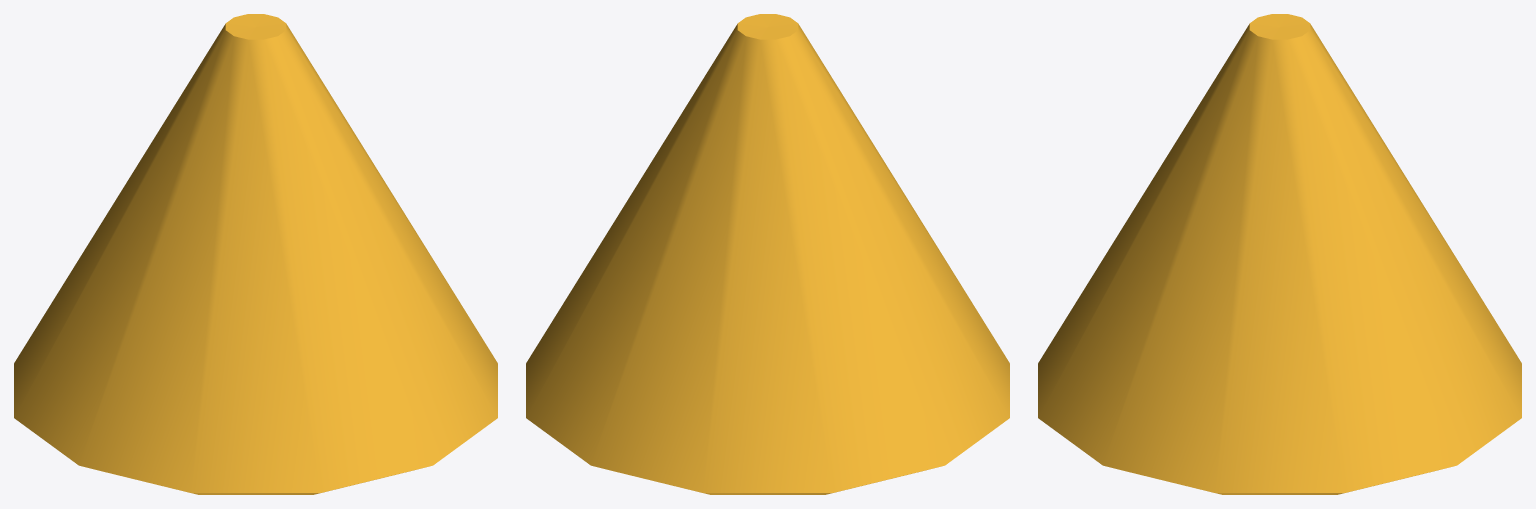
Rendered from juguangdeng.FBX.
3 views of the same model, side by side, from view 1: azimuth 30°, elevation 25°; view 2: azimuth 150°, elevation 25°; view 3: azimuth 270°, elevation 25° (orthographic).
Parts seen in each view (by area): view 1: body; view 2: body; view 3: body.
Part boxes in pixels (x1,y1,x2,y2): body: (14,14,497,494); body: (526,14,1009,494); body: (1038,14,1521,494).
Bounding box in the file's own units: 7.76 × 6.69 × 7.76.
1 material, 1 textured.
